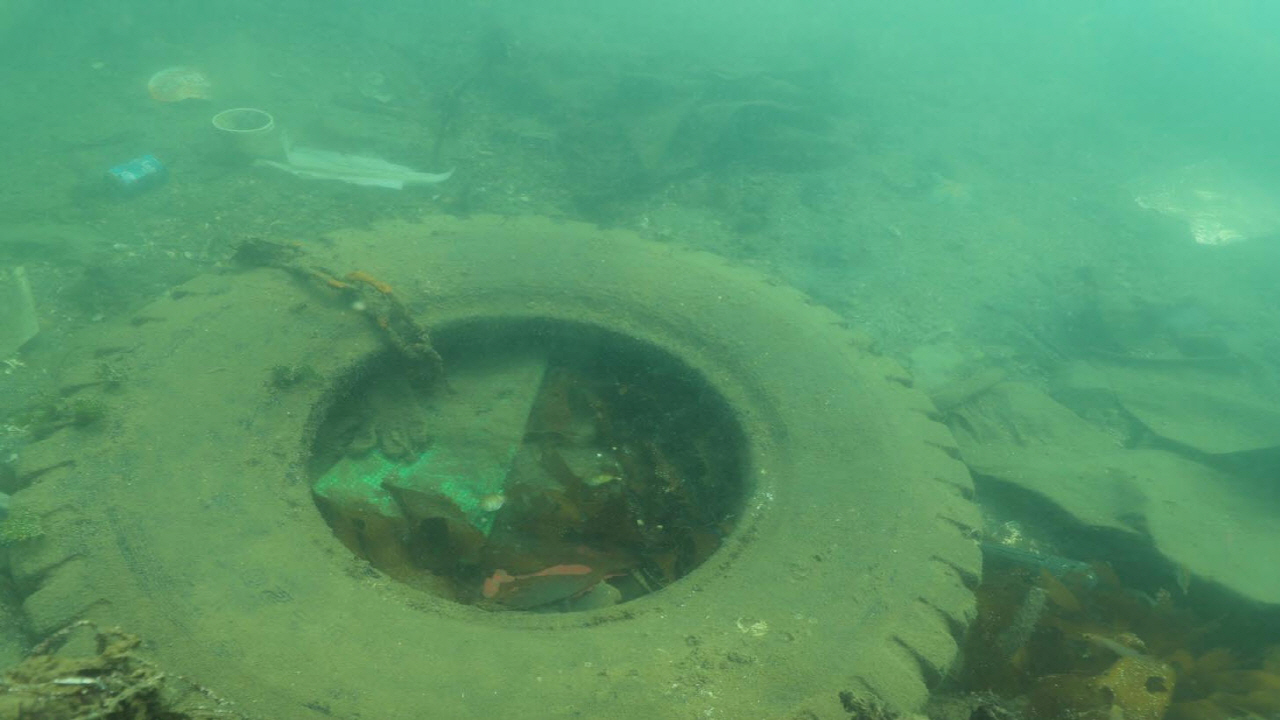tire: (0, 209, 984, 720)
